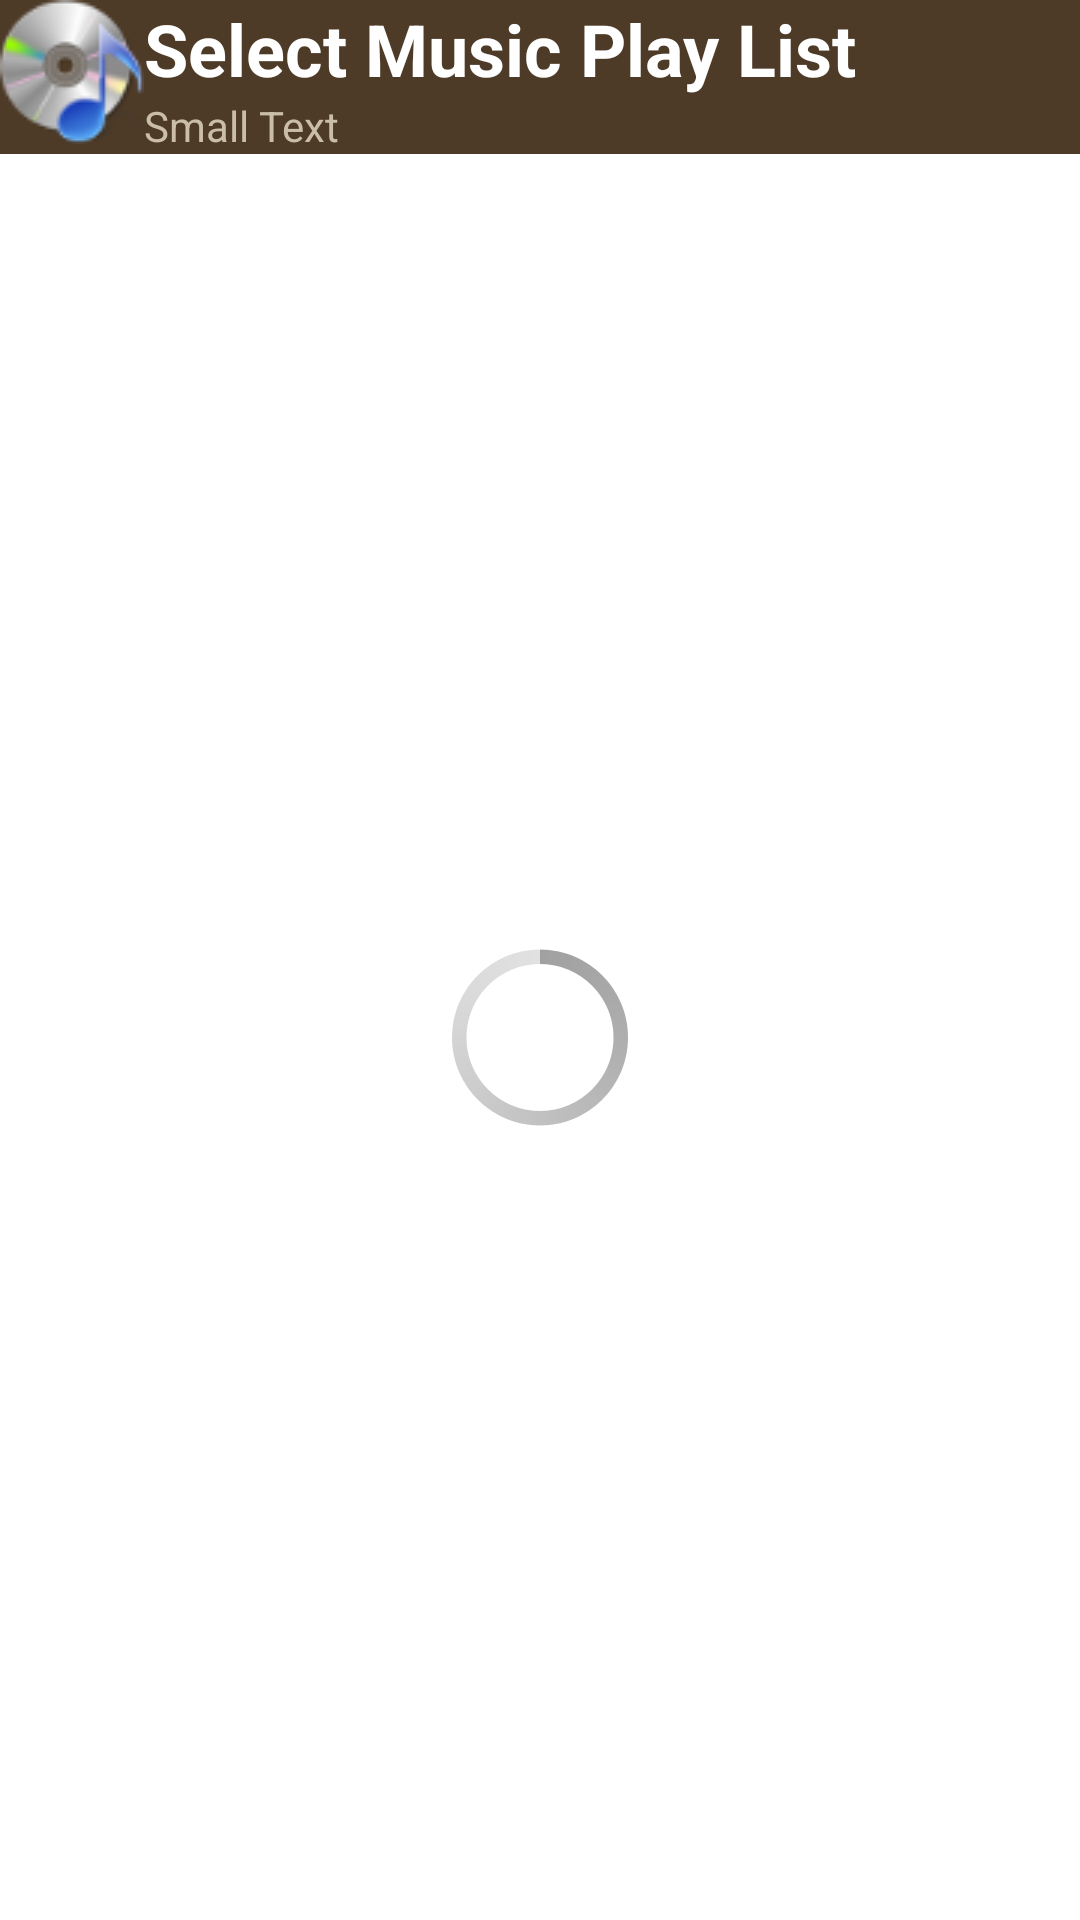

Icons on this 1080*1920 Android screen, each with the point to tap as [x,y]:
play music on: [72,71]
